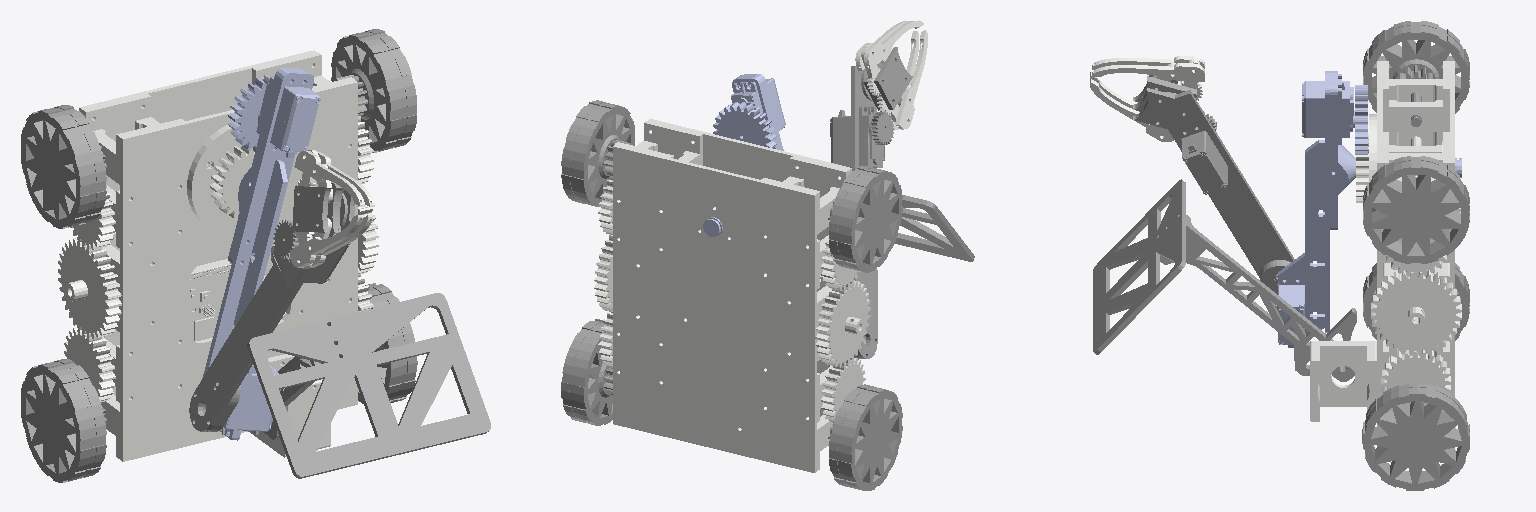
robot.urdf — mockup:
<?xml version="1.0" ?>
<!-- =================================================================================== -->
<!-- |    This document was autogenerated by xacro from [local-path]/car/src/robot_model_pkg/urdf/robot.xacro | -->
<!-- |    EDITING THIS FILE BY HAND IS NOT RECOMMENDED                                 | -->
<!-- =================================================================================== -->
<!-- This URDF was automatically created by SolidWorks to URDF Exporter! Originally created by [author] ([email redacted]) 
     Commit Version: 1.6.0-4-g7f85cfe  Build Version: 1.6.7995.38578
     For more information, please see http://wiki.ros.org/sw_urdf_exporter -->
<robot name="mockup">
    <gazebo reference="base_link">
        <material>Gazebo/FlatBlack</material>
        <plugin name="gazebo_ros_control" filename="libgazebo_ros_control.so">
            <robotNamespace>/</robotNamespace>
        </plugin>
    </gazebo>
    <gazebo reference="wheel_lf_Link">
        <mu1>1000000</mu1>
        <mu2>1000000</mu2>
        <kp>500000.0</kp>
        <kd>10.0</kd>
        <minDepth>0.001</minDepth>
        <maxVel>1.0</maxVel>
        <fdir1>1 0 0</fdir1>
        <material>Gazebo/DarkGrey</material>
    </gazebo>
    <gazebo reference="wheel_rf_Link">
        <mu1>1000000</mu1>
        <mu2>1000000</mu2>
        <kp>500000.0</kp>
        <kd>10.0</kd>
        <minDepth>0.001</minDepth>
        <maxVel>1.0</maxVel>
        <fdir1>1 0 0</fdir1>
        <material>Gazebo/DarkGrey</material>
    </gazebo>
    <gazebo reference="wheel_lb_Link">
        <mu1>0.5</mu1>
        <mu2>0.5</mu2>
        <kp>500000.0</kp>
        <kd>100.0</kd>
        <minDepth>0.001</minDepth>
        <maxVel>1.0</maxVel>
        <material>Gazebo/DarkGrey</material>
    </gazebo>
    <gazebo reference="wheel_rb_Link">
        <mu1>0.5</mu1>
        <mu2>0.5</mu2>
        <kp>500000.0</kp>
        <kd>100.0</kd>
        <minDepth>0.001</minDepth>
        <maxVel>1.0</maxVel>
        <material>Gazebo/DarkGrey</material>
    </gazebo>
    <gazebo>
        <plugin filename="libgazebo_ros_diff_drive.so" name="mybot_controller">
            <commandTopic>cmd_vel</commandTopic>
            <odometryTopic>odom</odometryTopic>
            <odometryFrame>odom</odometryFrame>
            <odometrySource>world</odometrySource>
            <publishOdomTF>true</publishOdomTF>
            <robotBaseFrame>dummy</robotBaseFrame>
            <publishWheelTF>false</publishWheelTF>
            <publishTf>true</publishTf>
            <publishWheelJointState>true</publishWheelJointState>
            <legacyMode>false</legacyMode>
            <updateRate>30</updateRate>
            <leftJoint>wheel_lf_joint</leftJoint>
            <rightJoint>wheel_rf_joint</rightJoint>
            <wheelSeparation>0.24</wheelSeparation>
            <wheelDiameter>0.08</wheelDiameter>
            <wheelAcceleration>10</wheelAcceleration>
            <wheelTorque>100000</wheelTorque>
            <rosDebugLevel>na</rosDebugLevel>
        </plugin>
    </gazebo>
    <link name="dummy" />
    <joint name="dummy_joint" type="fixed">
        <parent link="dummy" />
        <child link="base_link" />
        <origin rpy="0 0 0" xyz="0 0 0" />
    </joint>
    <link name="base_link">
        <inertial>
            <origin rpy="0 0 0" xyz="0.0904702080747973 0.130510056782425 0.0317345302542495" />
            <mass value="0.928302977473542" />
            <inertia ixx="0.00181610571238853" ixy="-3.14209393922838E-07" ixz="3.25779536545692E-08" iyy="0.00118345617589198" iyz="1.03803388385665E-07" izz="0.00267462603004712" />
        </inertial>
        <visual>
            <origin rpy="0 0 0" xyz="0 0 0" />
            <geometry>
                <mesh filename="package://robot_model_pkg/meshes/base_link.STL" />
            </geometry>
            <material name="">
                <color rgba="0.964705882352941 0.964705882352941 0.952941176470588 1" />
            </material>
        </visual>
        <collision>
            <origin rpy="0 0 0" xyz="0 0 0" />
            <geometry>
                <mesh filename="package://robot_model_pkg/meshes/base_link.STL" />
            </geometry>
        </collision>
    </link>
    <link name="link_1">
        <inertial>
            <origin rpy="0 0 0" xyz="-0.080802 0.0010653 -0.016188" />
            <mass value="0.14634" />
            <inertia ixx="4.563E-05" ixy="1.3166E-07" ixz="-6.51E-08" iyy="0.00018838" iyz="-2.4306E-08" izz="0.00016163" />
        </inertial>
        <visual>
            <origin rpy="0 0 0" xyz="0 0 0" />
            <geometry>
                <mesh filename="package://robot_model_pkg/meshes/link_1.STL" />
            </geometry>
            <material name="">
                <color rgba="0.79216 0.81961 0.93333 1" />
            </material>
        </visual>
        <collision>
            <origin rpy="0 0 0" xyz="0 0 0" />
            <geometry>
                <mesh filename="package://robot_model_pkg/meshes/link_1.STL" />
            </geometry>
        </collision>
    </link>
    <joint name="joint_1" type="revolute">
        <origin rpy="-1.5708 -1.2915 0" xyz="0.10489 -0.0758 0.25784" />
        <parent link="base_link" />
        <child link="link_1" />
        <axis xyz="0 0 0" />
        <limit effort="100" lower="-3.14" upper="3.14" velocity="1" />
    </joint>
    <link name="link_2">
        <inertial>
            <origin rpy="0 0 0" xyz="0.113545597524012 0.474509855148572 0.119784028330441" />
            <mass value="0.0784116932589274" />
            <inertia ixx="0.000124536944888649" ixy="4.06133088041699E-09" ixz="-6.50247382107134E-10" iyy="8.78739717059435E-06" iyz="2.9466015885576E-06" izz="0.000123196920844073" />
        </inertial>
        <visual>
            <origin rpy="0 0 0" xyz="0 0 0" />
            <geometry>
                <mesh filename="package://robot_model_pkg/meshes/link_2.STL" />
            </geometry>
            <material name="">
                <color rgba="0.701960784313725 0.701960784313725 0.701960784313725 1" />
            </material>
        </visual>
        <collision>
            <origin rpy="0 0 0" xyz="0 0 0" />
            <geometry>
                <mesh filename="package://robot_model_pkg/meshes/link_2.STL" />
            </geometry>
        </collision>
    </link>
    <joint name="joint_2" type="revolute">
        <origin rpy="-0.43633 0 -1.5708" xyz="-0.56496 0.088574 -0.0099369" />
        <parent link="link_1" />
        <child link="link_2" />
        <axis xyz="0 0 0" />
        <limit effort="100" lower="-3.14" upper="3.14" velocity="1" />
    </joint>
    <link name="link_3">
        <inertial>
            <origin rpy="0 0 0" xyz="0.017249 0.014155 0.0020148" />
            <mass value="0.0078088" />
            <inertia ixx="2.7256E-06" ixy="1.7588E-08" ixz="3.9578E-10" iyy="3.0591E-07" iyz="1.4279E-10" izz="3.0103E-06" />
        </inertial>
        <visual>
            <origin rpy="0 0 0" xyz="0 0 0" />
            <geometry>
                <mesh filename="package://robot_model_pkg/meshes/link_3.STL" />
            </geometry>
            <material name="">
                <color rgba="0.96471 0.96471 0.95294 1" />
            </material>
        </visual>
        <collision>
            <origin rpy="0 0 0" xyz="0 0 0" />
            <geometry>
                <mesh filename="package://robot_model_pkg/meshes/link_3.STL" />
            </geometry>
        </collision>
    </link>
    <joint name="joint_3" type="revolute">
        <origin rpy="-1.5708 1.1283 -1.5708" xyz="0.129 0.5285 0.11523" />
        <parent link="link_2" />
        <child link="link_3" />
        <axis xyz="0 0 0" />
        <limit effort="100" lower="-1" upper="1" velocity="1" />
    </joint>
    <link name="link_4">
        <inertial>
            <origin rpy="0 0 0" xyz="0.00953761532679706 0.0168818886089965 0.0019851684839203" />
            <mass value="0.00778649569214158" />
            <inertia ixx="2.68264008524836E-06" ixy="-2.97896363896993E-07" ixz="3.75846368252889E-10" iyy="3.43783185444972E-07" iyz="-1.89418297478716E-10" izz="3.00525807992474E-06" />
        </inertial>
        <visual>
            <origin rpy="0 0 0" xyz="0 0 0" />
            <geometry>
                <mesh filename="package://robot_model_pkg/meshes/link_4.STL" />
            </geometry>
            <material name="">
                <color rgba="0.964705882352941 0.964705882352941 0.952941176470588 1" />
            </material>
        </visual>
        <collision>
            <origin rpy="0 0 0" xyz="0 0 0" />
            <geometry>
                <mesh filename="package://robot_model_pkg/meshes/link_4.STL" />
            </geometry>
        </collision>
    </link>
    <joint name="joint_4" type="revolute">
        <origin rpy="-1.5708 0.58726 -1.5708" xyz="0.129 0.56346 0.14322" />
        <parent link="link_2" />
        <child link="link_4" />
        <axis xyz="0 0 0" />
        <limit effort="100" lower="-1" upper="1" velocity="1" />
    </joint>
    <link name="pusher_Link">
        <inertial>
            <origin rpy="0 0 0" xyz="0.12343 0.04438 0.0083134" />
            <mass value="0.072201" />
            <inertia ixx="0.00013796" ixy="-2.6708E-05" ixz="-6.8721E-07" iyy="0.00018094" iyz="-9.4172E-07" izz="0.00015743" />
        </inertial>
        <visual>
            <origin rpy="0 0 0" xyz="0 0 0" />
            <geometry>
                <mesh filename="package://robot_model_pkg/meshes/pusher_Link.STL" />
            </geometry>
            <material name="">
                <color rgba="0.70196 0.70196 0.70196 1" />
            </material>
        </visual>
        <collision>
            <origin rpy="0 0 0" xyz="0 0 0" />
            <geometry>
                <mesh filename="package://robot_model_pkg/meshes/pusher_Link.STL" />
            </geometry>
        </collision>
    </link>
    <joint name="pusher_joint" type="revolute">
        <origin rpy="1.5708 -0.20329 -1.5708" xyz="0.093659 -0.083 0.039201" />
        <parent link="base_link" />
        <child link="pusher_Link" />
        <axis xyz="0 0 -1" />
        <limit effort="100" lower="0" upper="2.4" velocity="1" />
    </joint>
    <link name="wheel_rb_Link">
        <inertial>
            <origin rpy="0 0 0" xyz="6.1282E-05 -3.5381E-05 0.0067688" />
            <mass value="0.088831" />
            <inertia ixx="4.3347E-05" ixy="1.0649E-07" ixz="-1.759E-08" iyy="4.347E-05" iyz="1.0156E-08" izz="6.0223E-05" />
        </inertial>
        <visual>
            <origin rpy="0 0 0" xyz="0 0 0" />
            <geometry>
                <mesh filename="package://robot_model_pkg/meshes/wheel_rb_Link.STL" />
            </geometry>
            <material name="">
                <color rgba="0.70196 0.70196 0.70196 1" />
            </material>
        </visual>
        <collision>
            <origin rpy="0 0 0" xyz="0 0 0" />
            <geometry>
                <mesh filename="package://robot_model_pkg/meshes/wheel_rb_Link.STL" />
            </geometry>
        </collision>
    </link>
    <joint name="wheel_rb_joint" type="continuous">
        <origin rpy="3.14159265358979 1.5707963267949 0" xyz="-0.018701151790293 -0.0290000000000009 0.224033817740037" />
        <parent link="base_link" />
        <child link="wheel_rb_Link" />
        <axis xyz="0 0 -1" />
    </joint>
    <link name="wheel_lb_Link">
        <inertial>
            <origin rpy="0 0 0" xyz="3.5417E-05 -6.1262E-05 -0.0067688" />
            <mass value="0.088831" />
            <inertia ixx="4.347E-05" ixy="1.0656E-07" ixz="1.0166E-08" iyy="4.3347E-05" iyz="-1.7584E-08" izz="6.0223E-05" />
        </inertial>
        <visual>
            <origin rpy="0 0 0" xyz="0 0 0" />
            <geometry>
                <mesh filename="package://robot_model_pkg/meshes/wheel_lb_Link.STL" />
            </geometry>
            <material name="">
                <color rgba="0.70196 0.70196 0.70196 1" />
            </material>
        </visual>
        <collision>
            <origin rpy="0 0 0" xyz="0 0 0" />
            <geometry>
                <mesh filename="package://robot_model_pkg/meshes/wheel_lb_Link.STL" />
            </geometry>
        </collision>
    </link>
    <joint name="wheel_lb_joint" type="continuous">
        <origin rpy="3.14159265358979 1.5707963267949 0" xyz="0.198698848209706 -0.0289999999999984 0.224033817740039" />
        <parent link="base_link" />
        <child link="wheel_lb_Link" />
        <axis xyz="0 0 -1" />
    </joint>
    <link name="wheel_rf_Link">
        <inertial>
            <origin rpy="0 0 0" xyz="6.1282E-05 -3.5381E-05 0.0067688" />
            <mass value="0.088831" />
            <inertia ixx="4.3347E-05" ixy="1.0649E-07" ixz="-1.759E-08" iyy="4.347E-05" iyz="1.0156E-08" izz="6.0223E-05" />
        </inertial>
        <visual>
            <origin rpy="0 0 0" xyz="0 0 0" />
            <geometry>
                <mesh filename="package://robot_model_pkg/meshes/wheel_rf_Link.STL" />
            </geometry>
            <material name="">
                <color rgba="0.70196 0.70196 0.70196 1" />
            </material>
        </visual>
        <collision>
            <origin rpy="0 0 0" xyz="0 0 0" />
            <geometry>
                <mesh filename="package://robot_model_pkg/meshes/wheel_rf_Link.STL" />
            </geometry>
        </collision>
    </link>
    <joint name="wheel_rf_joint" type="continuous">
        <origin rpy="3.14159265358979 1.5707963267949 0" xyz="-0.018701151790293 -0.029000000000002 0.0384566177400361" />
        <parent link="base_link" />
        <child link="wheel_rf_Link" />
        <axis xyz="0 0 -1" />
    </joint>
    <link name="wheel_lf_Link">
        <inertial>
            <origin rpy="0 0 0" xyz="-4.8712E-05 -5.1328E-05 -0.0067688" />
            <mass value="0.088831" />
            <inertia ixx="4.3415E-05" ixy="-1.228E-07" ixz="-1.3982E-08" iyy="4.3402E-05" iyz="-1.4733E-08" izz="6.0223E-05" />
        </inertial>
        <visual>
            <origin rpy="0 0 0" xyz="0 0 0" />
            <geometry>
                <mesh filename="package://robot_model_pkg/meshes/wheel_lf_Link.STL" />
            </geometry>
            <material name="">
                <color rgba="0.70196 0.70196 0.70196 1" />
            </material>
        </visual>
        <collision>
            <origin rpy="0 0 0" xyz="0 0 0" />
            <geometry>
                <mesh filename="package://robot_model_pkg/meshes/wheel_lf_Link.STL" />
            </geometry>
        </collision>
    </link>
    <joint name="wheel_lf_joint" type="continuous">
        <origin rpy="3.14159265358979 1.5707963267949 0" xyz="0.198698848209707 -0.0290000000000011 0.0384566177400396" />
        <parent link="base_link" />
        <child link="wheel_lf_Link" />
        <axis xyz="0 0 -1" />
    </joint>
    <transmission name="pusher_Link_trans">
        <type>transmission_interface/SimpleTransmission</type>
        <joint name="pusher_joint">
            <hardwareInterface>hardware_interface/PositionJointInterface</hardwareInterface>
        </joint>
        <actuator name="pusher_Link_motor">
            <hardwareInterface>hardware_interface/PositionJointInterface</hardwareInterface>
            <mechanicalReduction>1</mechanicalReduction>
        </actuator>
    </transmission>
    <transmission name="link_1_trans">
        <type>transmission_interface/SimpleTransmission</type>
        <joint name="joint_1">
            <hardwareInterface>hardware_interface/PositionJointInterface</hardwareInterface>
        </joint>
        <actuator name="link_1_motor">
            <hardwareInterface>hardware_interface/PositionJointInterface</hardwareInterface>
            <mechanicalReduction>1</mechanicalReduction>
        </actuator>
    </transmission>
    <transmission name="link_2_trans">
        <type>transmission_interface/SimpleTransmission</type>
        <joint name="joint_2">
            <hardwareInterface>hardware_interface/PositionJointInterface</hardwareInterface>
        </joint>
        <actuator name="link_2_motor">
            <hardwareInterface>hardware_interface/PositionJointInterface</hardwareInterface>
            <mechanicalReduction>1</mechanicalReduction>
        </actuator>
    </transmission>
    <transmission name="link_3_trans">
        <type>transmission_interface/SimpleTransmission</type>
        <joint name="joint_3">
            <hardwareInterface>hardware_interface/PositionJointInterface</hardwareInterface>
        </joint>
        <actuator name="link_3_motor">
            <hardwareInterface>hardware_interface/PositionJointInterface</hardwareInterface>
            <mechanicalReduction>1</mechanicalReduction>
        </actuator>
    </transmission>
    <transmission name="link_4_trans">
        <type>transmission_interface/SimpleTransmission</type>
        <joint name="joint_4">
            <hardwareInterface>hardware_interface/PositionJointInterface</hardwareInterface>
        </joint>
        <actuator name="link_4_motor">
            <hardwareInterface>hardware_interface/PositionJointInterface</hardwareInterface>
            <mechanicalReduction>1</mechanicalReduction>
        </actuator>
    </transmission>
    <gazebo>
        <plugin filename="libgazebo_ros_control.so" name="control">
            <robotNamespace>/</robotNamespace>
        </plugin>
    </gazebo>
    <gazebo reference="pusher_Link">
        <selfCollide>true</selfCollide>
    </gazebo>
    <gazebo reference="link_1">
        <selfCollide>true</selfCollide>
    </gazebo>
    <gazebo reference="link_2">
        <selfCollide>true</selfCollide>
    </gazebo>
    <gazebo reference="link_3">
        <selfCollide>true</selfCollide>
    </gazebo>
    <gazebo reference="link_4">
        <selfCollide>true</selfCollide>
    </gazebo>
    <transmission name="trans_wheel_rb_joint">
        <type>transmission_interface/SimpleTransmission</type>
        <joint name="wheel_rb_joint">
            <hardwareInterface>hardware_interface/EffortJointInterface</hardwareInterface>
        </joint>
        <actuator name="wheel_rb_joint_motor">
            <hardwareInterface>hardware_interface/EffortJointInterface</hardwareInterface>
            <mechanicalReduction>1</mechanicalReduction>
        </actuator>
    </transmission>
    <transmission name="trans_wheel_lb_joint">
        <type>transmission_interface/SimpleTransmission</type>
        <joint name="wheel_lb_joint">
            <hardwareInterface>hardware_interface/EffortJointInterface</hardwareInterface>
        </joint>
        <actuator name="wheel_lb_joint_motor">
            <hardwareInterface>hardware_interface/EffortJointInterface</hardwareInterface>
            <mechanicalReduction>1</mechanicalReduction>
        </actuator>
    </transmission>
    <transmission name="trans_wheel_rf_joint">
        <type>transmission_interface/SimpleTransmission</type>
        <joint name="wheel_rf_joint">
            <hardwareInterface>hardware_interface/EffortJointInterface</hardwareInterface>
        </joint>
        <actuator name="wheel_rf_joint_motor">
            <hardwareInterface>hardware_interface/EffortJointInterface</hardwareInterface>
            <mechanicalReduction>1</mechanicalReduction>
        </actuator>
    </transmission>
    <transmission name="trans_wheel_lf_joint">
        <type>transmission_interface/SimpleTransmission</type>
        <joint name="wheel_lf_joint">
            <hardwareInterface>hardware_interface/EffortJointInterface</hardwareInterface>
        </joint>
        <actuator name="wheel_lf_joint_motor">
            <hardwareInterface>hardware_interface/EffortJointInterface</hardwareInterface>
            <mechanicalReduction>1</mechanicalReduction>
        </actuator>
    </transmission>
</robot>

--- Facts derived from the render (not from the file) ---
Views: 3 orthographic renders of the robot side by side, from view 1: azimuth 30°, elevation 25°; view 2: azimuth 150°, elevation 25°; view 3: azimuth 270°, elevation 25°.
Robot: mockup — 11 links, 10 joints (5 revolute, 4 continuous, 1 fixed); root link dummy; default pose: every joint at zero.
Visible links, largest first — view 1: base_link, pusher_Link, link_1, link_2, wheel_rb_Link, wheel_rf_Link, wheel_lb_Link, wheel_lf_Link, link_3, link_4; view 2: base_link, link_2, wheel_rf_Link, wheel_rb_Link, wheel_lb_Link, wheel_lf_Link, link_1, pusher_Link, link_3, link_4; view 3: base_link, pusher_Link, link_1, link_2, wheel_lf_Link, wheel_lb_Link, wheel_rb_Link, link_4, wheel_rf_Link, link_3.
Boxes of the visible links, x1,y1,x2,y2 form: base_link: (58, 50, 378, 461); pusher_Link: (247, 293, 490, 478); link_1: (202, 68, 320, 440); link_2: (189, 183, 354, 431); wheel_rb_Link: (21, 105, 106, 228); wheel_rf_Link: (21, 359, 106, 482); wheel_lb_Link: (331, 29, 416, 152); wheel_lf_Link: (358, 283, 417, 403); link_3: (290, 215, 372, 268); link_4: (294, 150, 374, 206); base_link: (594, 119, 870, 472); link_2: (830, 47, 912, 359); wheel_rf_Link: (828, 384, 902, 490); wheel_rb_Link: (828, 166, 902, 272); wheel_lb_Link: (561, 100, 634, 206); wheel_lf_Link: (561, 319, 612, 425); link_1: (703, 74, 785, 236); pusher_Link: (895, 195, 974, 261); link_3: (877, 30, 927, 129); link_4: (855, 20, 923, 95); base_link: (1310, 61, 1461, 448); pusher_Link: (1093, 179, 1356, 381); link_1: (1278, 71, 1461, 347); link_2: (1133, 75, 1294, 309); wheel_lf_Link: (1362, 382, 1469, 490); wheel_lb_Link: (1363, 156, 1469, 263); wheel_rb_Link: (1363, 21, 1469, 126); link_4: (1092, 56, 1204, 100); wheel_rf_Link: (1363, 263, 1469, 340); link_3: (1090, 72, 1173, 141).
Bounding box of the posed robot: 0.2574 × 0.2821 × 0.2902 m (x, y, z).
Meshes: 10 distinct files referenced, 10 mesh visuals loaded (10 binary STL).
